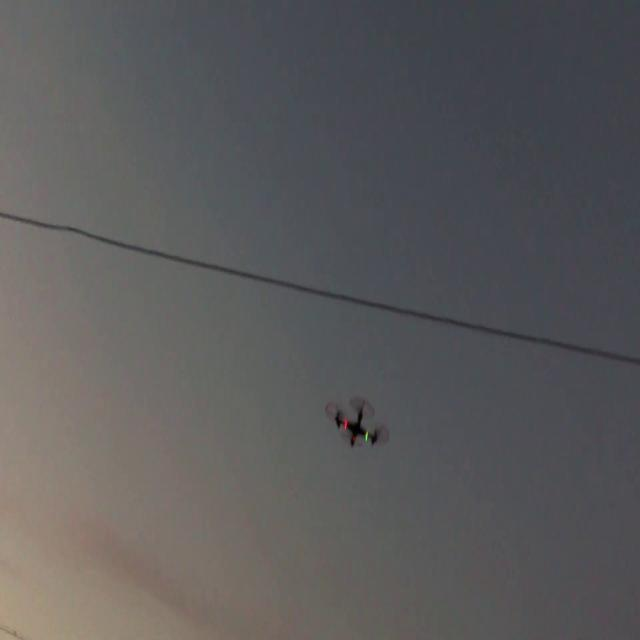Drons: (324, 398, 391, 450)
